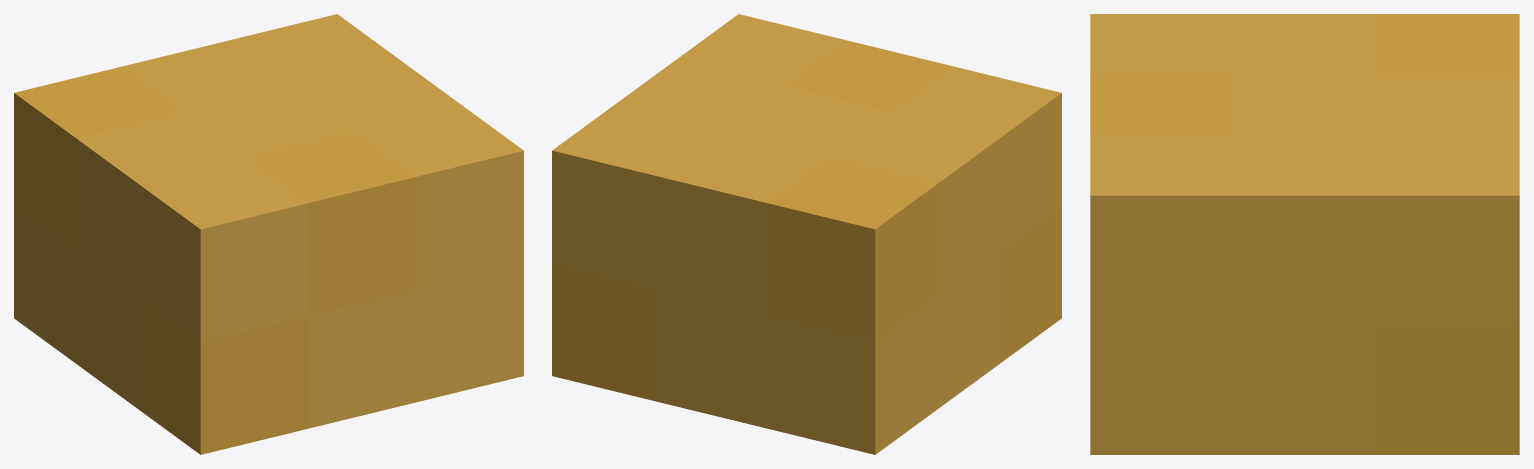
File: tavern-6-cheese.glb
3 views of the same model, side by side, from view 1: azimuth 30°, elevation 25°; view 2: azimuth 150°, elevation 25°; view 3: azimuth 270°, elevation 25° (orthographic). The views are drawn at different scales.
Parts seen in each view (by area): view 1: cheese; view 2: cheese; view 3: cheese.
Boxes of the visible parts, box(x1,y1,x2,y2) form: cheese: box(14, 14, 523, 454); cheese: box(552, 14, 1061, 454); cheese: box(1090, 14, 1519, 454).
Size of the model in its own units: 0.3 by 0.2 by 0.3.
Materials: 1 (1 with a texture image).
